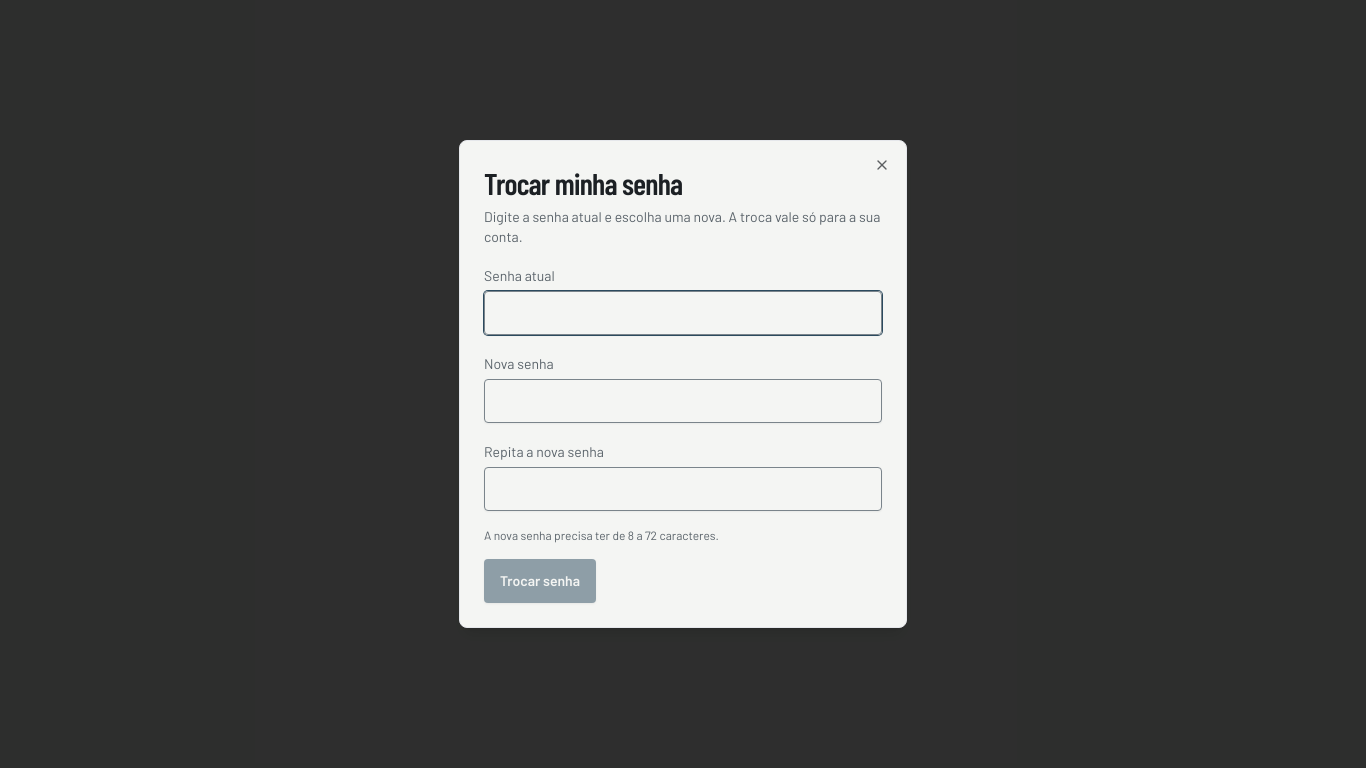
Scenario: TrocarMinhaSenha › troca a senha, avisa e limpa os campos
The image size is (1366, 768).
Type "antiga-123" into the password field labelled "Senha atual". click: {"x": 683, "y": 313}
box: [484,291,882,335]
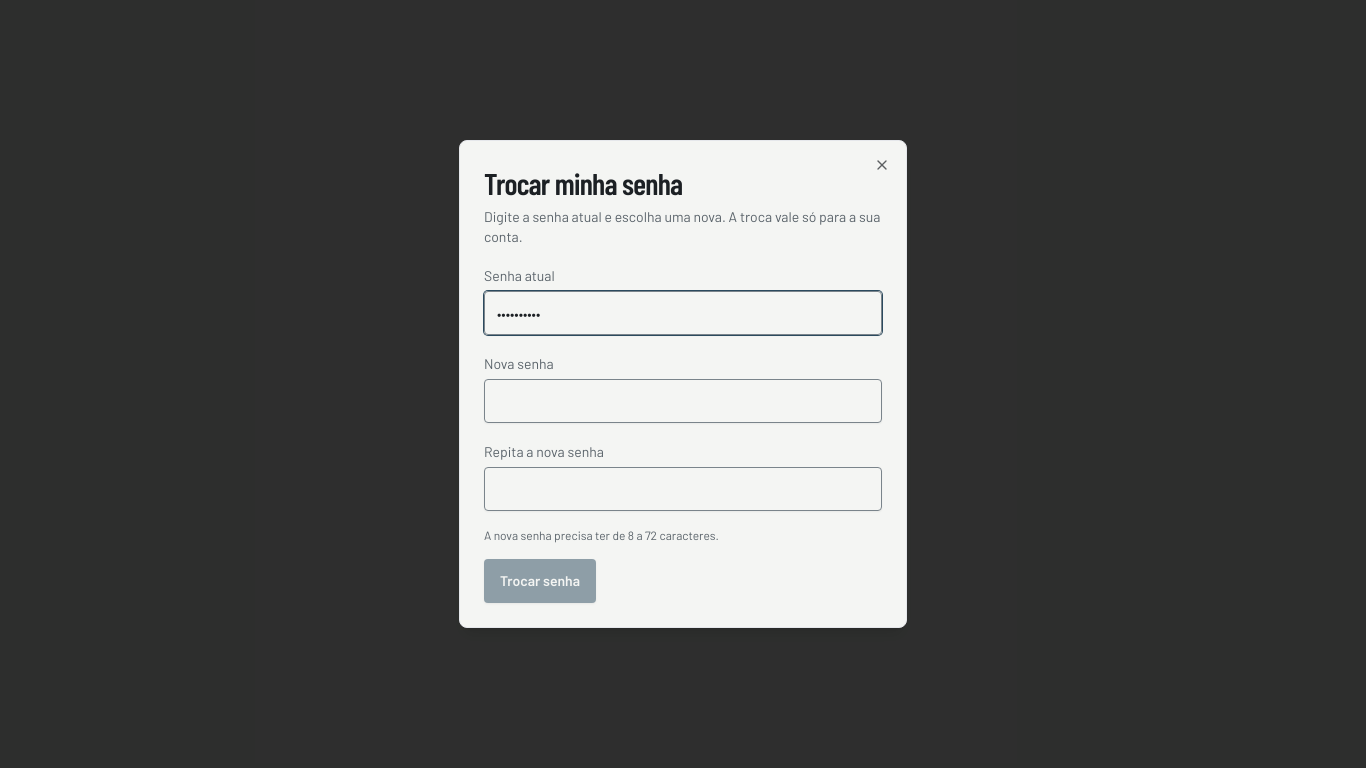
Type "nova-12345" into the password field labelled "Nova senha". click: {"x": 683, "y": 401}
box: [484,379,882,423]
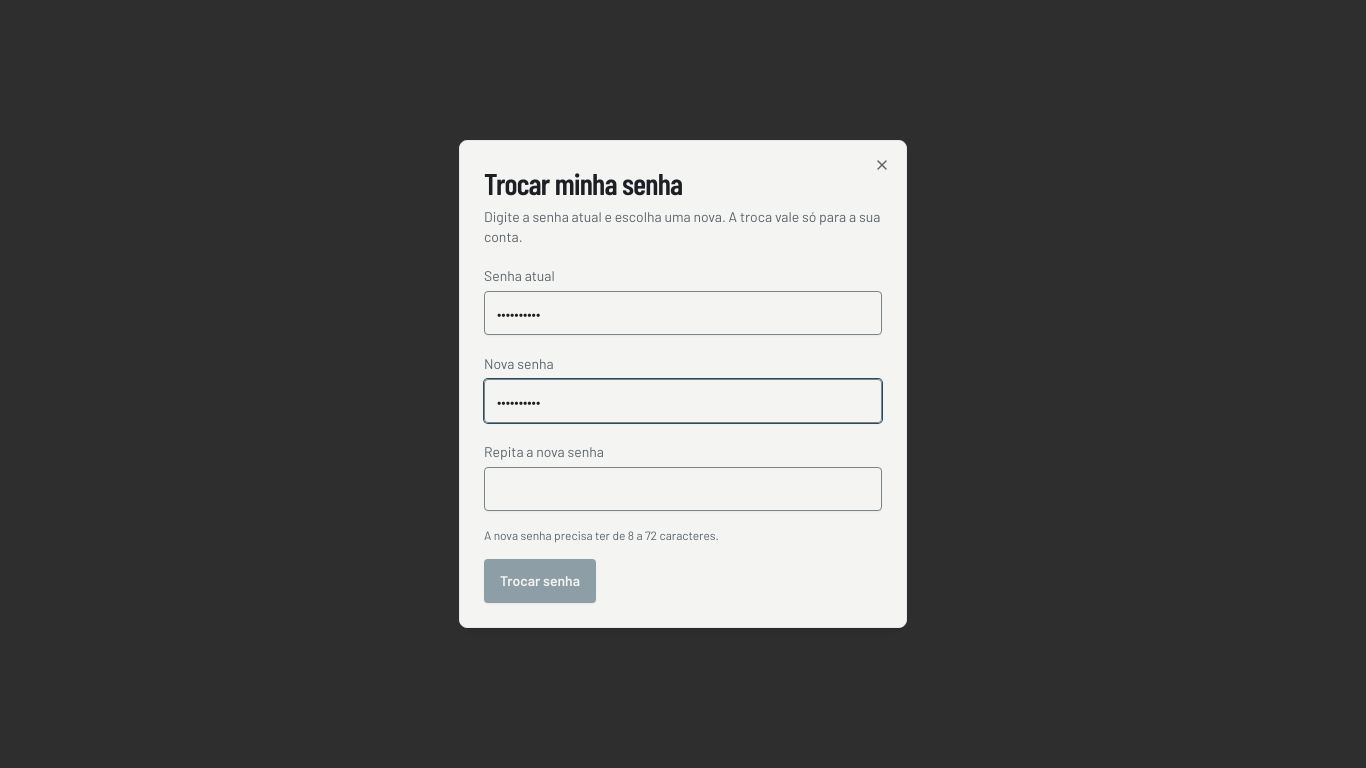
Type "nova-12345" into the password field labelled "Repita a nova senha". click: {"x": 683, "y": 489}
box: [484,467,882,511]
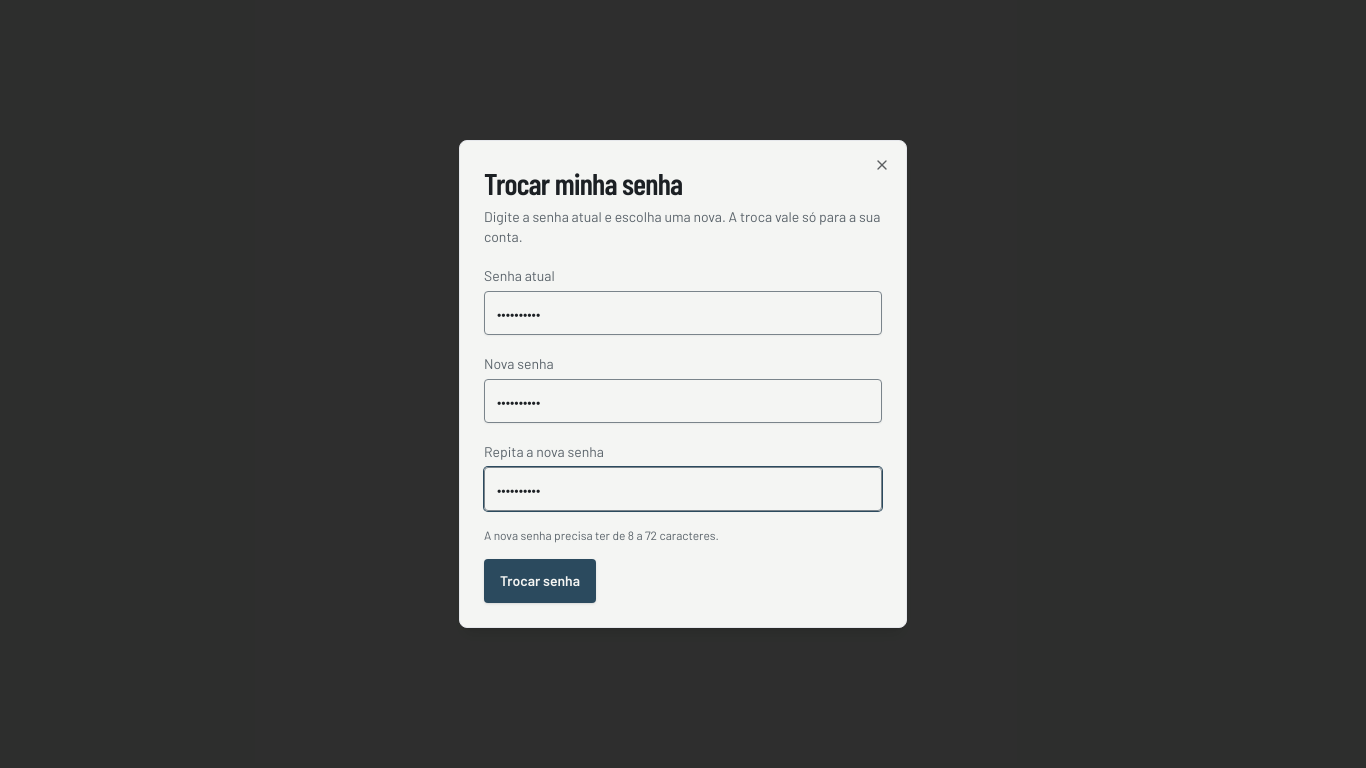
Click the button "Trocar senha". click: {"x": 540, "y": 581}
box: [484,559,596,603]
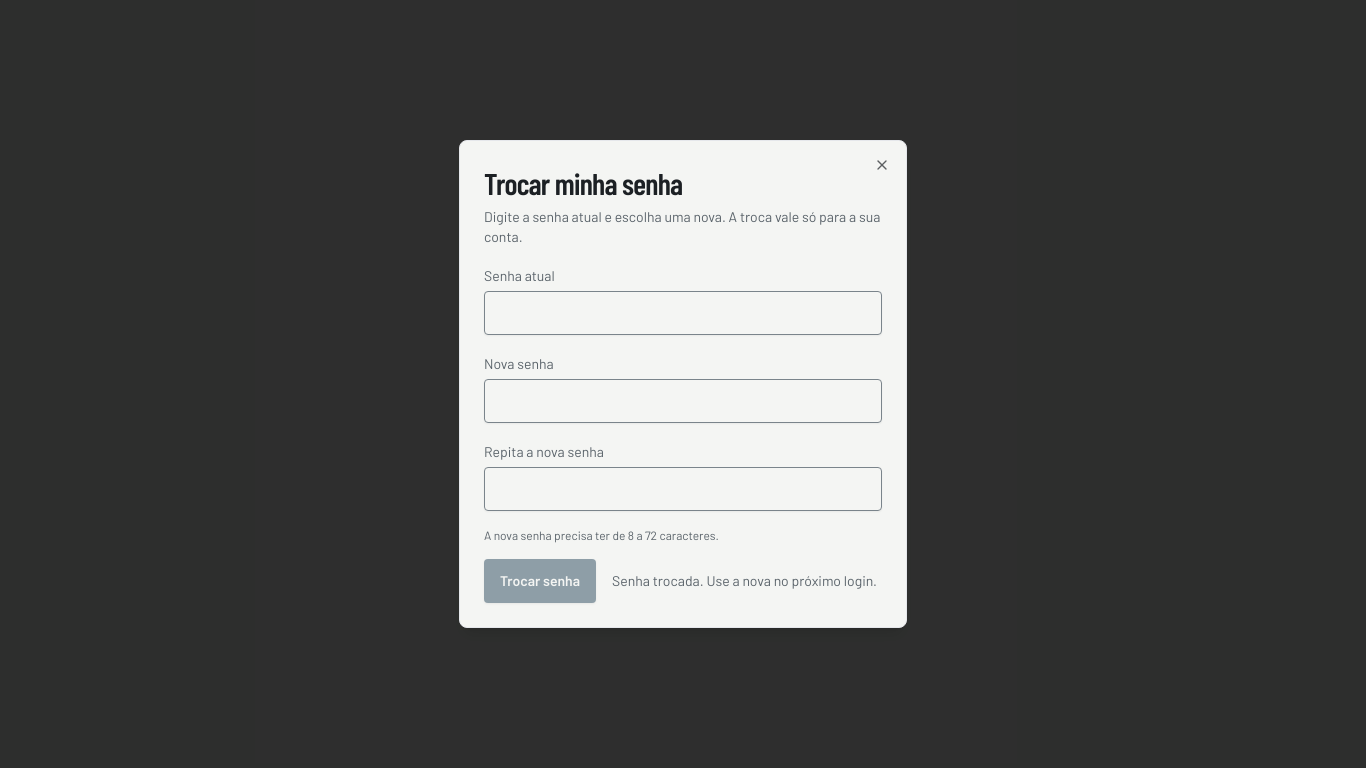
Now the message shows "Senha trocada.", box [612,572,877,589]
Now the password field labelled "Nova senha" is empty, box [484,379,882,423]
